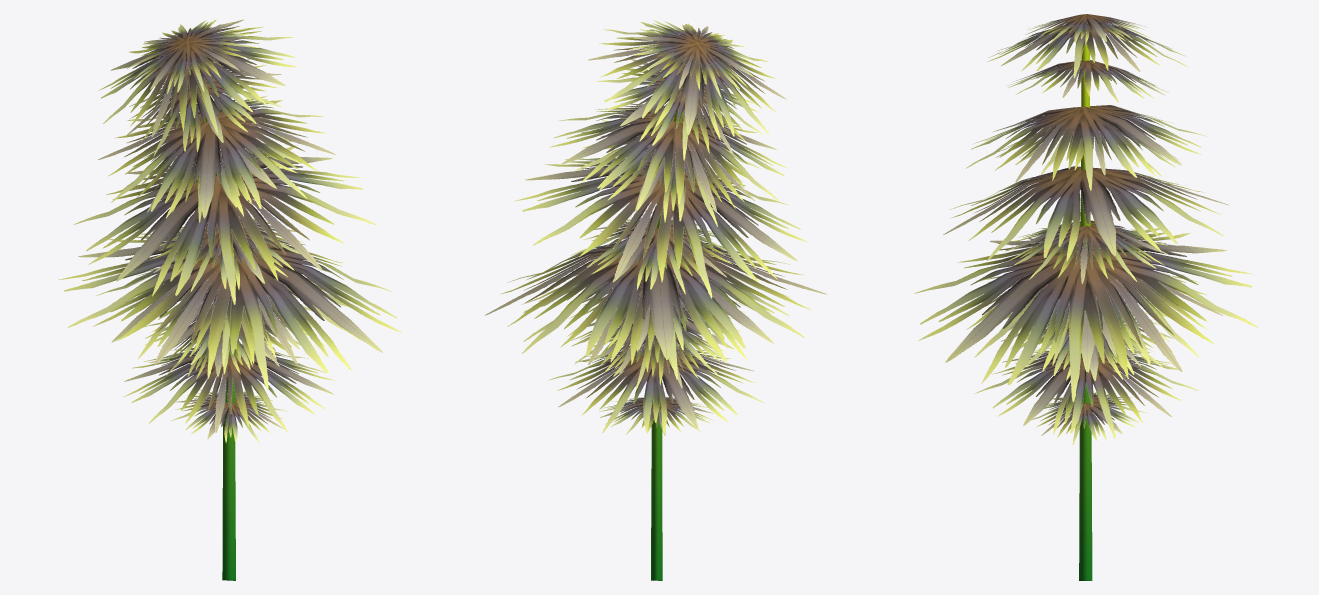
Rendered from short_tree 1.fbx.
3 views of the same model, side by side, from view 1: azimuth 30°, elevation 25°; view 2: azimuth 150°, elevation 25°; view 3: azimuth 270°, elevation 25° (orthographic).
Visible parts, largest first — view 1: polySurface84; view 2: polySurface84; view 3: polySurface84.
Part boxes in pixels (x1,y1,x2,y2): polySurface84: (58,19,401,580); polySurface84: (485,20,826,580); polySurface84: (915,14,1257,580).
Size of the model in its own units: 42.62 by 59.34 by 42.83.
1 material, 1 textured.
